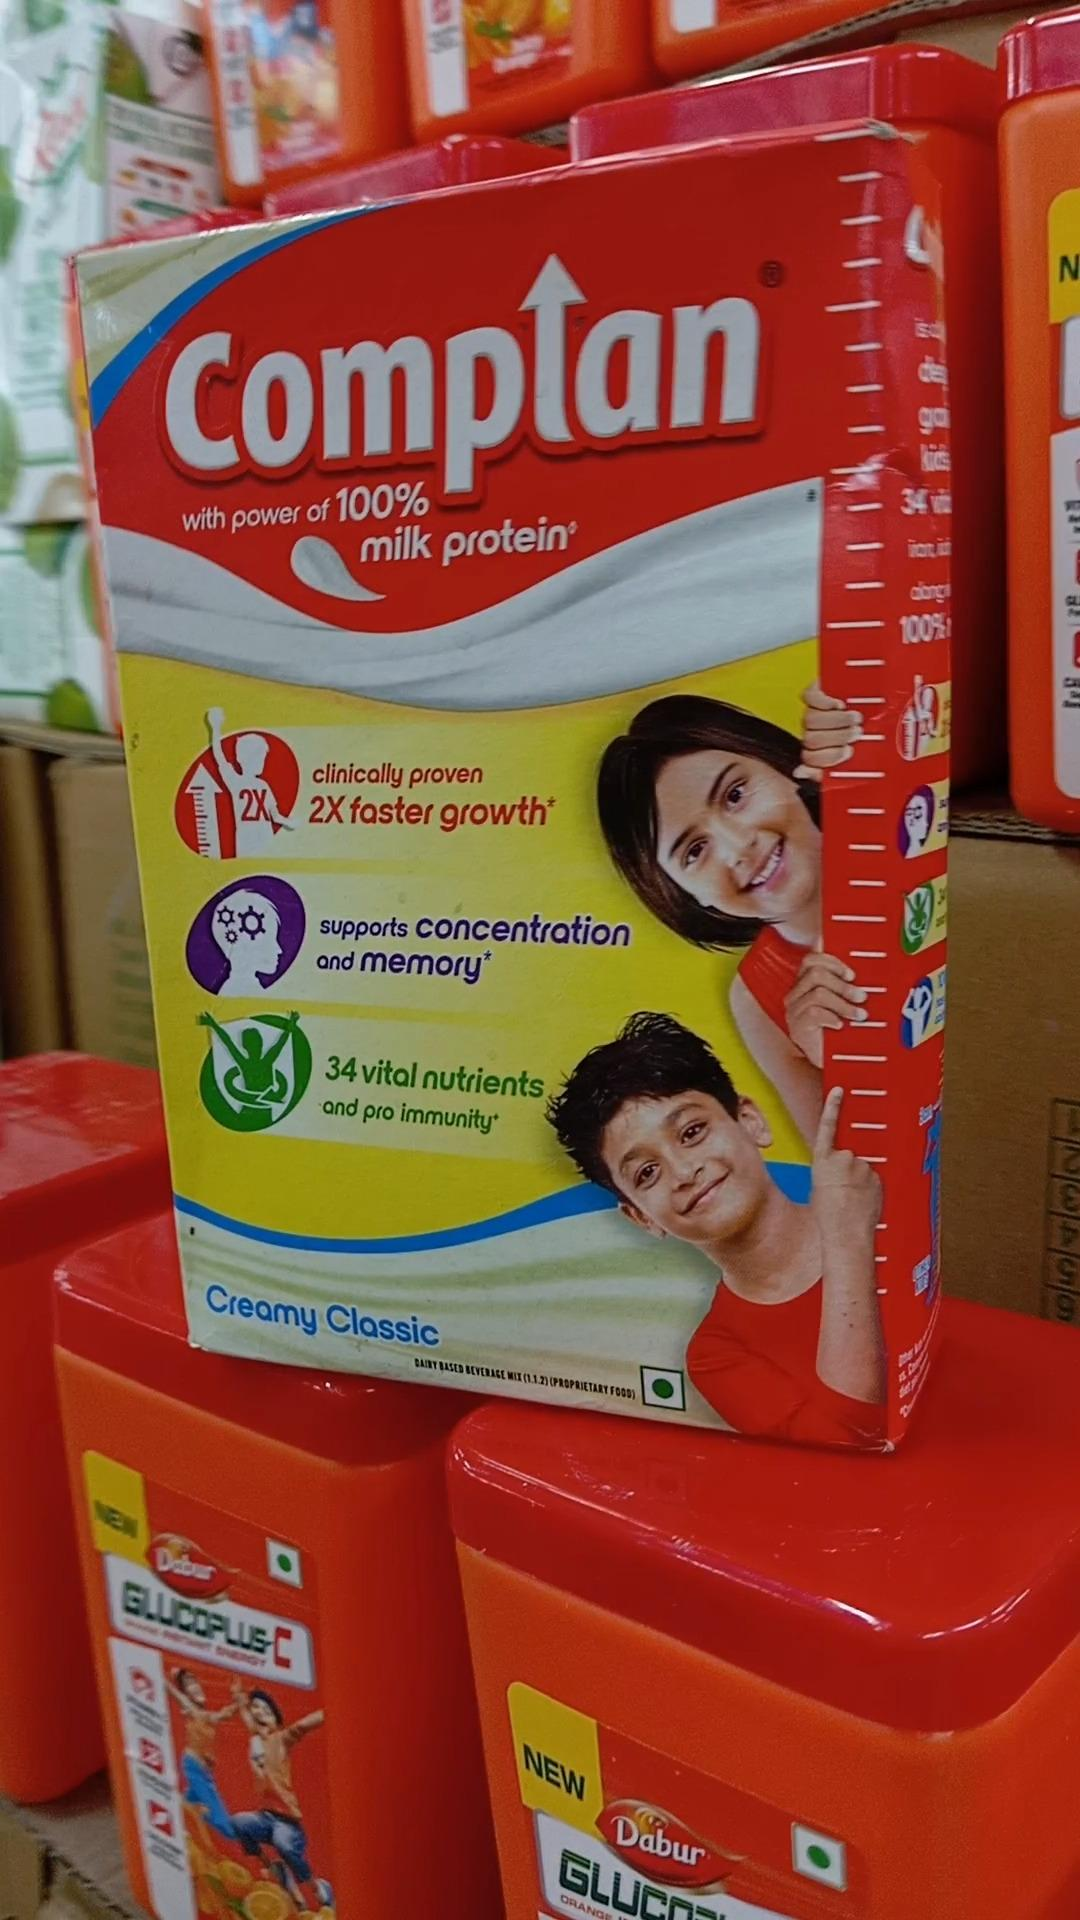COMPLAN_CREAMY_CLASSIC_500_G_PACK: (84, 165, 899, 1455)
